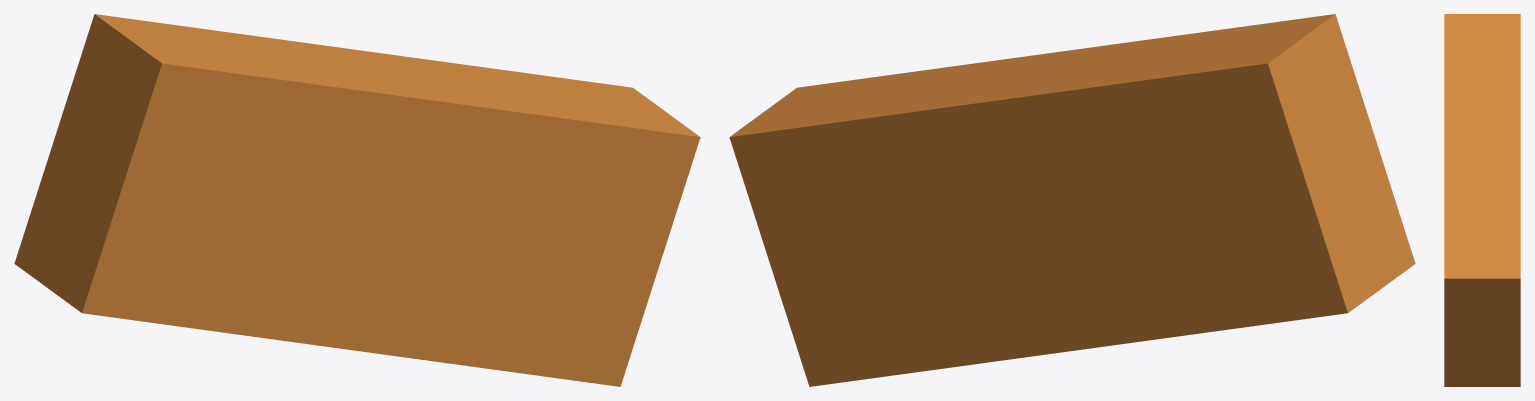
3 renders of one model, left to right at view 1: azimuth 30°, elevation 25°; view 2: azimuth 150°, elevation 25°; view 3: azimuth 270°, elevation 25°, orthographic. The views are drawn at different scales.
Visible parts, largest first — view 1: L4-6-S10-3EA-M02; view 2: L4-6-S10-3EA-M02; view 3: L4-6-S10-3EA-M02.
Part boxes in pixels (<box>): L4-6-S10-3EA-M02: <box>14,14,700,386</box>; L4-6-S10-3EA-M02: <box>729,14,1415,386</box>; L4-6-S10-3EA-M02: <box>1444,14,1520,386</box>.
Size of the model in its own units: 0.2378 by 0.1599 by 0.045.
